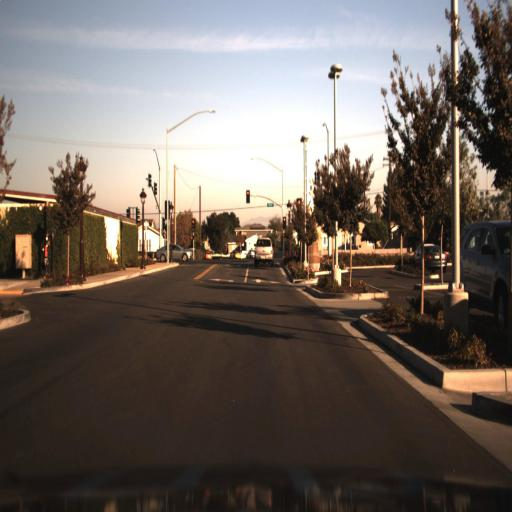car: (449, 216, 512, 329), (412, 242, 446, 272), (160, 240, 194, 268), (252, 236, 274, 266)
trafficLight-Red: (242, 187, 252, 206), (187, 218, 195, 236), (244, 184, 252, 200), (295, 195, 301, 216), (280, 214, 288, 228), (189, 216, 197, 228)
